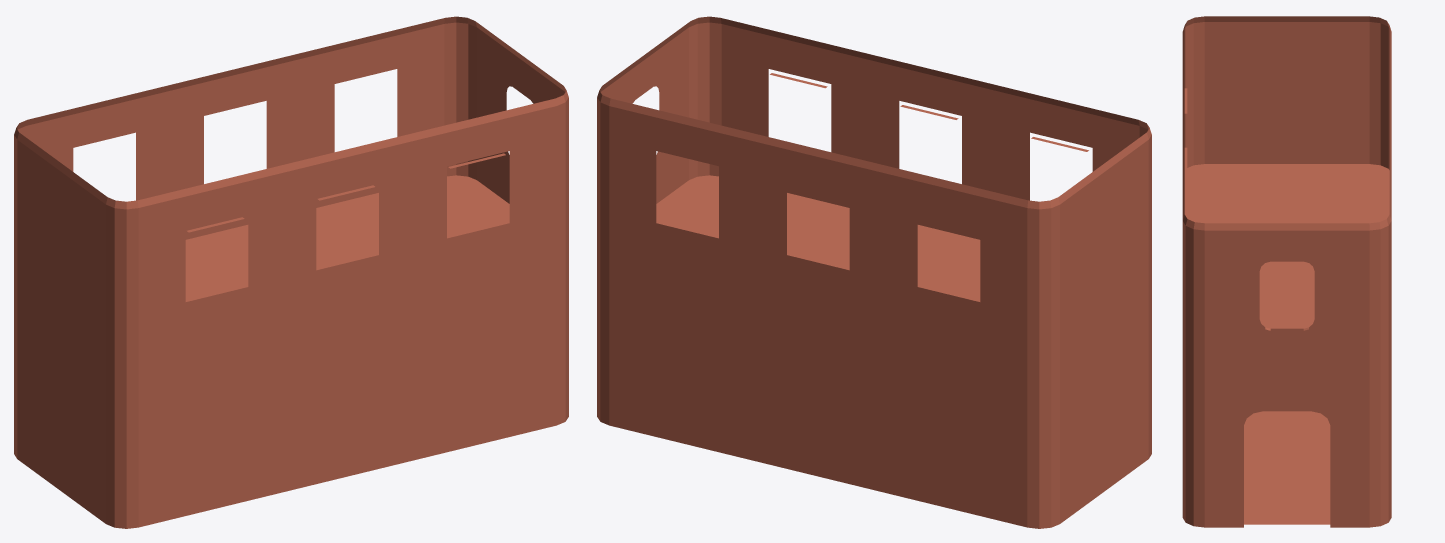
Rendered from Bld_R_low_L4_A.fbx.
3 renders of one model, left to right at view 1: azimuth 30°, elevation 25°; view 2: azimuth 150°, elevation 25°; view 3: azimuth 270°, elevation 25°, orthographic. The views are drawn at different scales.
Parts seen in each view (by area): view 1: Bld_R_low_L4_A_LOD0; view 2: Bld_R_low_L4_A_LOD0; view 3: Bld_R_low_L4_A_LOD0.
Boxes of the visible parts, x1=… form: Bld_R_low_L4_A_LOD0: x1=14, y1=16, x2=568, y2=528; Bld_R_low_L4_A_LOD0: x1=597, y1=16, x2=1151, y2=528; Bld_R_low_L4_A_LOD0: x1=1182, y1=16, x2=1391, y2=527.
Size of what is drawn, in the model's own units: 1407 by 1120 by 703.
Materials: 1 (1 with a texture image).
